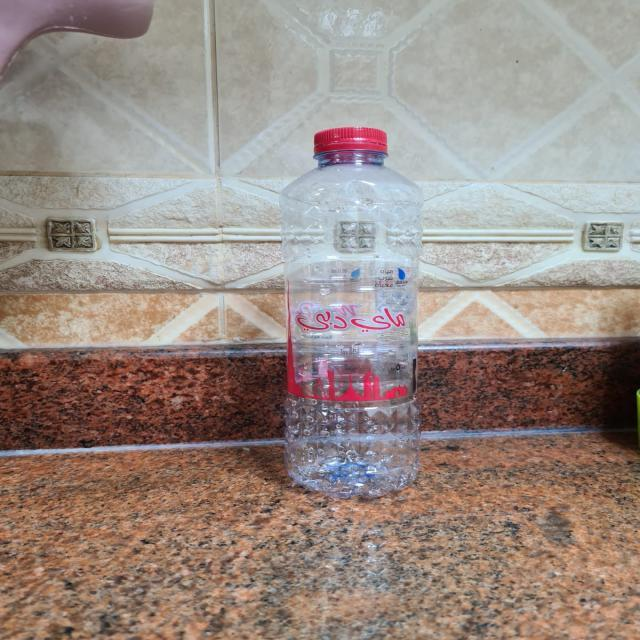chai: (282, 128, 422, 498)
